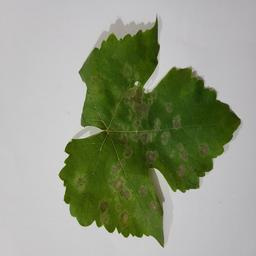Powdery-Mildew: (141, 131, 202, 165), (119, 88, 156, 123), (107, 168, 136, 202), (139, 186, 159, 222), (176, 168, 193, 184), (70, 171, 87, 187), (93, 199, 109, 216), (116, 208, 133, 224)
